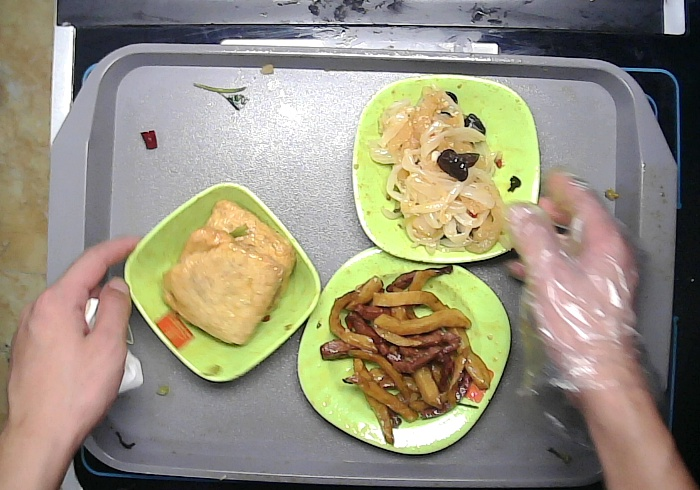SHKJ-Lv_Se_Cai_Die: (349, 74, 550, 266)
SHKJ-Lv_Se_Si_Fang_Cai_Die: (295, 247, 512, 456)
SHKJ-Lv_Se_Xiao_Fang_Die: (121, 180, 322, 388)
